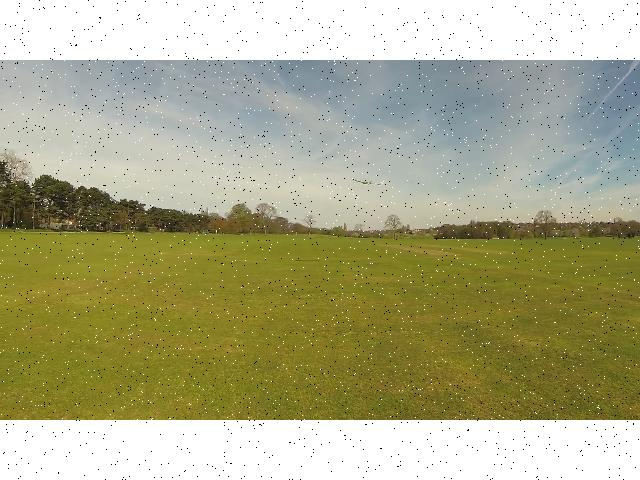Anti-Drone: (353, 170, 393, 194)
